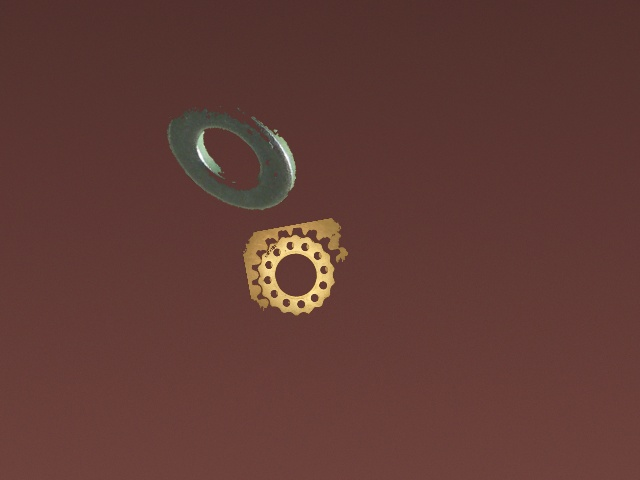gear: (242, 218, 347, 315)
washer: (166, 105, 296, 210)
